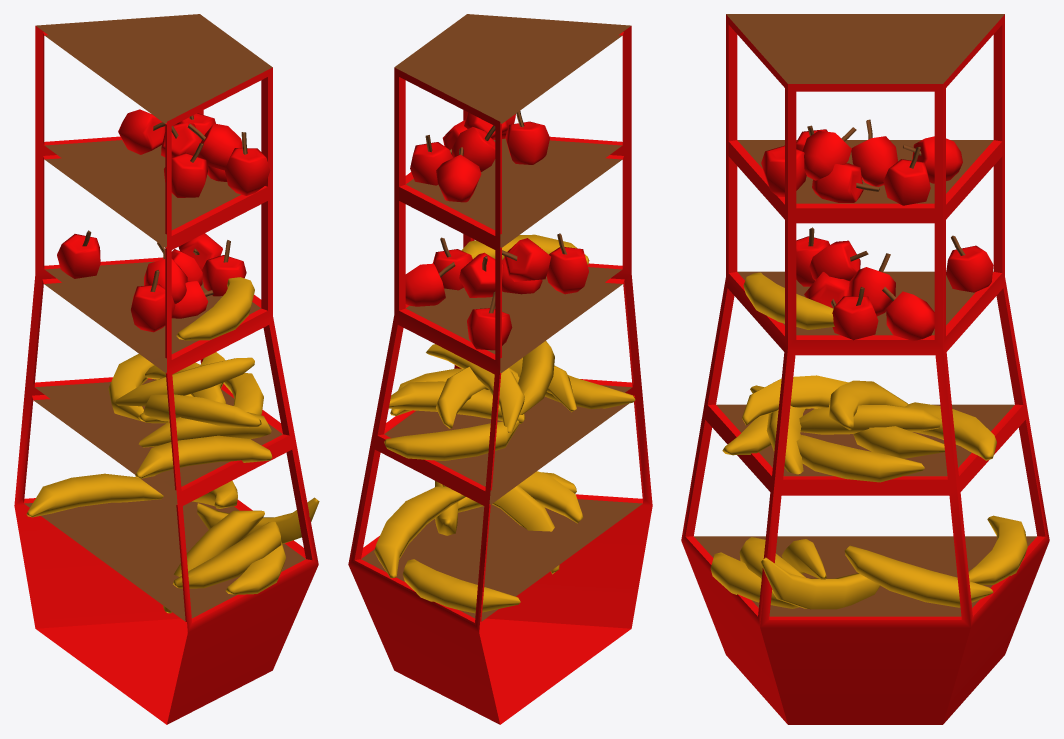
File: Shelve_Fruit_04.fbx
3 renders of one model, left to right at view 1: azimuth 30°, elevation 25°; view 2: azimuth 150°, elevation 25°; view 3: azimuth 270°, elevation 25°, orthographic. The views are drawn at different scales.
Parts seen in each view (by area): view 1: pasted__pCube10; view 2: pasted__pCube10; view 3: pasted__pCube10.
Part boxes in pixels (bbox=[...]): pasted__pCube10: bbox=[14, 14, 319, 724]; pasted__pCube10: bbox=[348, 14, 652, 724]; pasted__pCube10: bbox=[681, 14, 1049, 724].
Size of the model in its own units: 5.63 by 17.22 by 8.98.
Materials: 3 (3 with a texture image).
